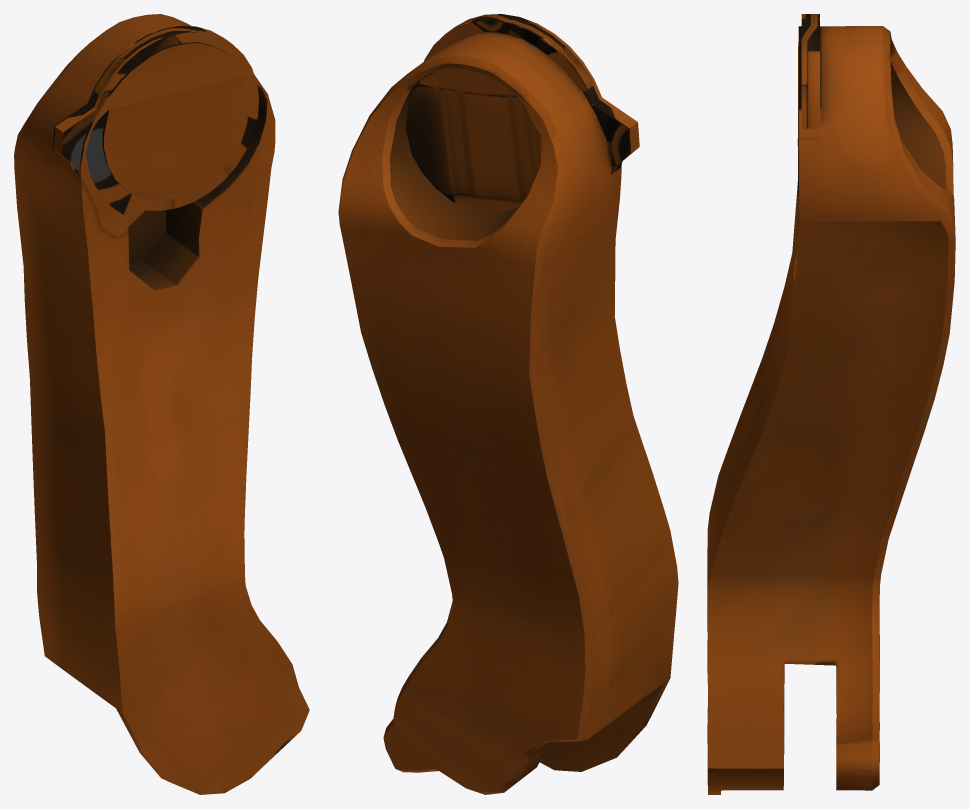
File: RobotArm.glb
3 views of the same model, side by side, from view 1: azimuth 30°, elevation 25°; view 2: azimuth 150°, elevation 25°; view 3: azimuth 270°, elevation 25° (orthographic). The views are drawn at different scales.
Parts seen in each view (by area): view 1: RobotArm; view 2: RobotArm; view 3: RobotArm.
Boxes of the visible parts, box(x1,y1,x2,y2) form: RobotArm: box(14, 14, 309, 794); RobotArm: box(338, 14, 678, 794); RobotArm: box(707, 14, 955, 794).
Size of the model in its own units: 0.424 by 1.39 by 0.4088.
Materials: 1 (1 with a texture image).
